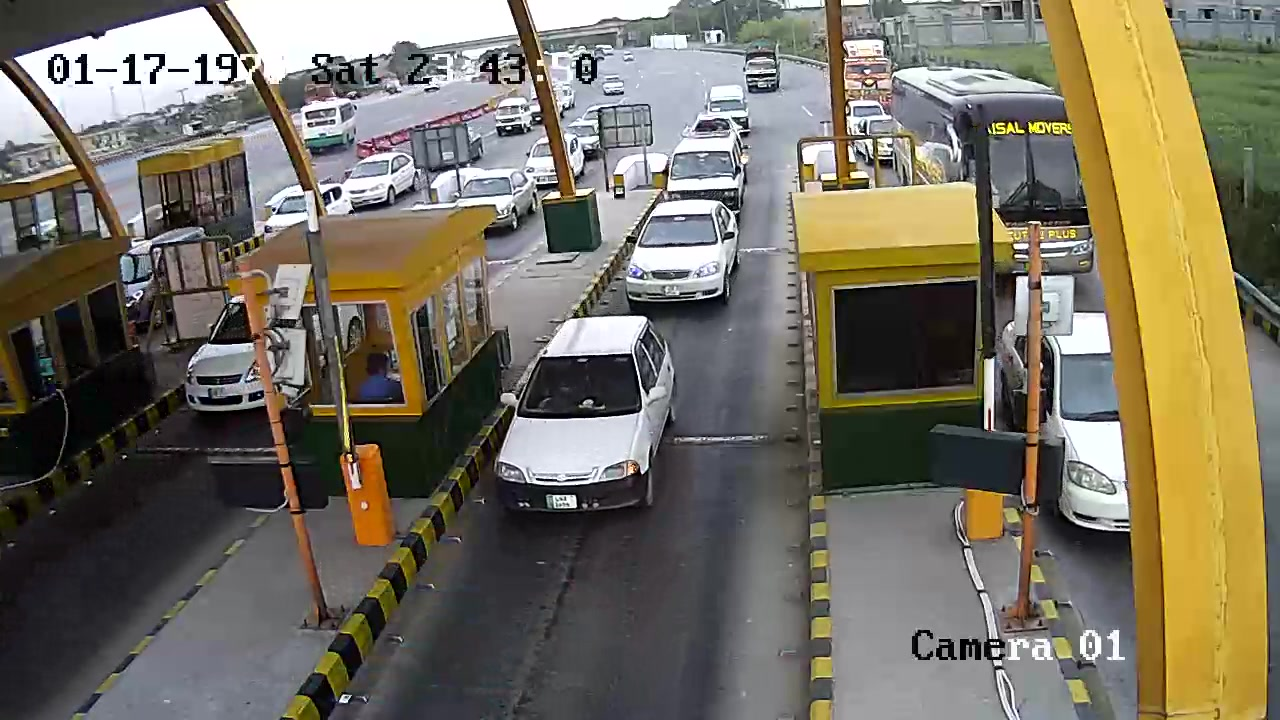F1: (483, 308, 725, 535)
